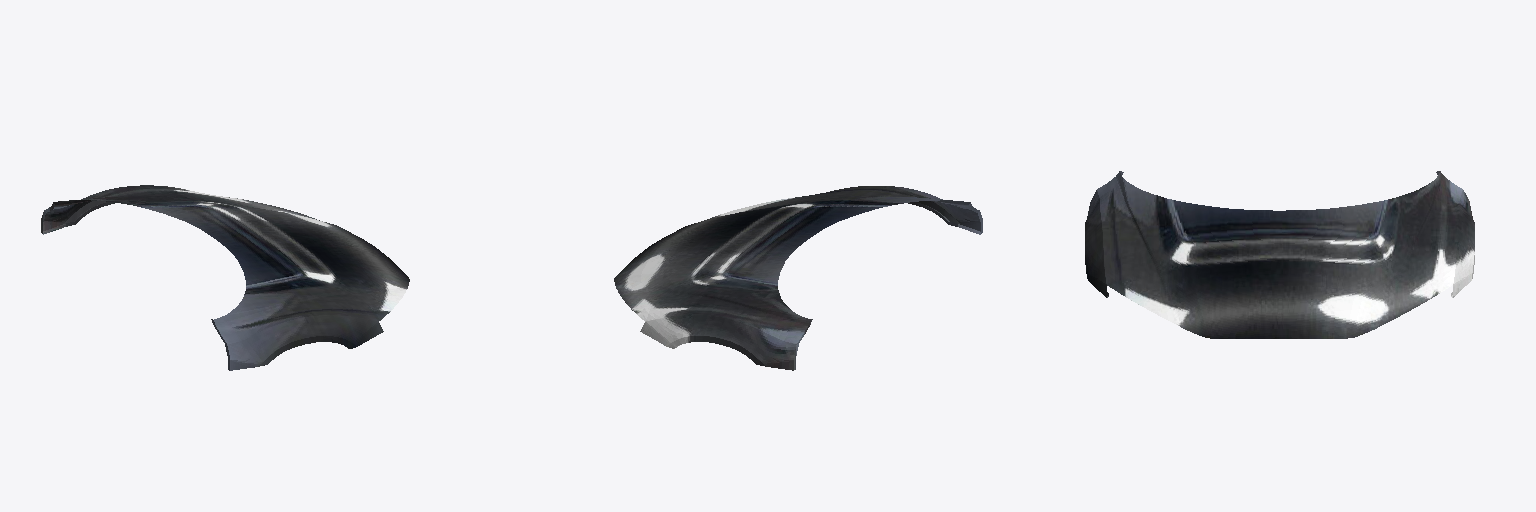
3 renders of one model, left to right at view 1: azimuth 30°, elevation 25°; view 2: azimuth 150°, elevation 25°; view 3: azimuth 270°, elevation 25°, orthographic.
Parts seen in each view (by area): view 1: bonnet; view 2: bonnet; view 3: bonnet.
Part boxes in pixels (left/top/right/bottom): bonnet: left=41, top=185, right=409, bottom=370; bonnet: left=614, top=186, right=982, bottom=370; bonnet: left=1085, top=171, right=1474, bottom=338.
Bounding box in the file's own units: 7.99 × 1.62 × 11.
Materials: 1 (1 with a texture image).